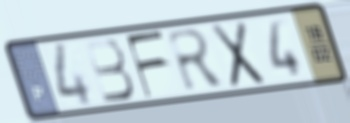4: (54, 41, 96, 109), (267, 17, 305, 80)
B: (82, 36, 137, 106)
F: (123, 28, 171, 101)
R: (163, 26, 229, 94)
X: (208, 18, 268, 91)
